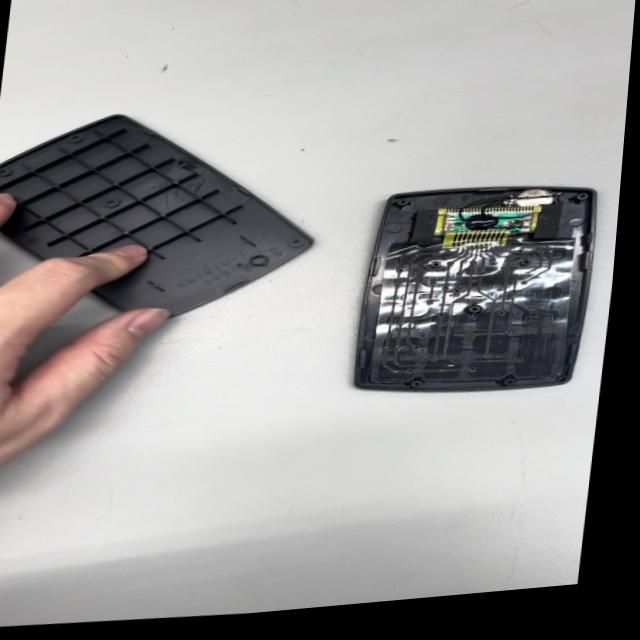back_cover: (0, 83, 337, 346)
front_panel: (341, 164, 609, 412)
